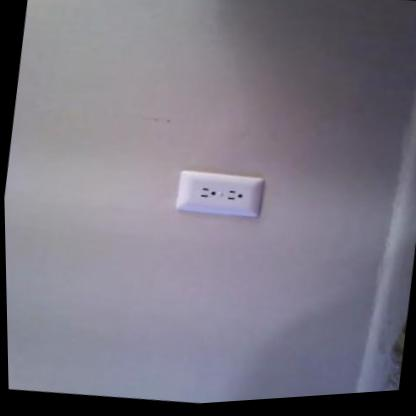OUTLET: (173, 161, 267, 223)
